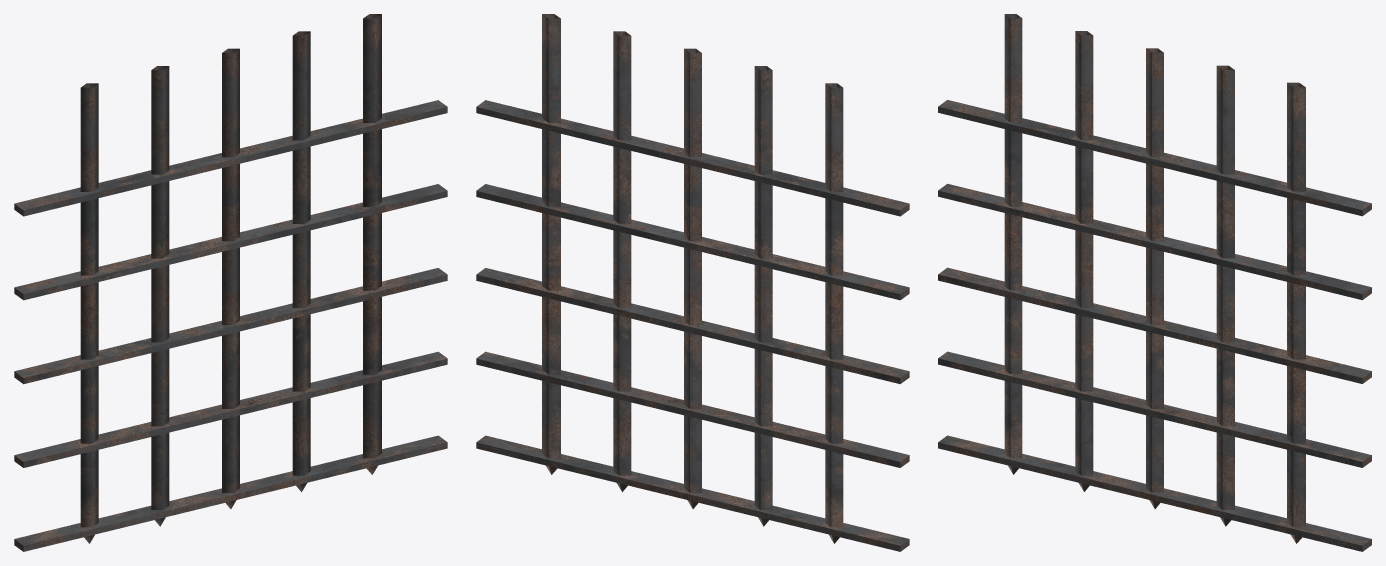
3 views of the same model, side by side, from view 1: azimuth 30°, elevation 25°; view 2: azimuth 150°, elevation 25°; view 3: azimuth 330°, elevation 25° (orthographic).
Parts seen in each view (by area): view 1: grid_door; view 2: grid_door; view 3: grid_door.
Boxes of the visible parts, x1=… form: grid_door: x1=14, y1=14, x2=447, y2=551; grid_door: x1=476, y1=14, x2=909, y2=551; grid_door: x1=938, y1=14, x2=1371, y2=551.
Size of the model in its own units: 21.54 by 22.26 by 0.8211.
1 material, 1 textured.
